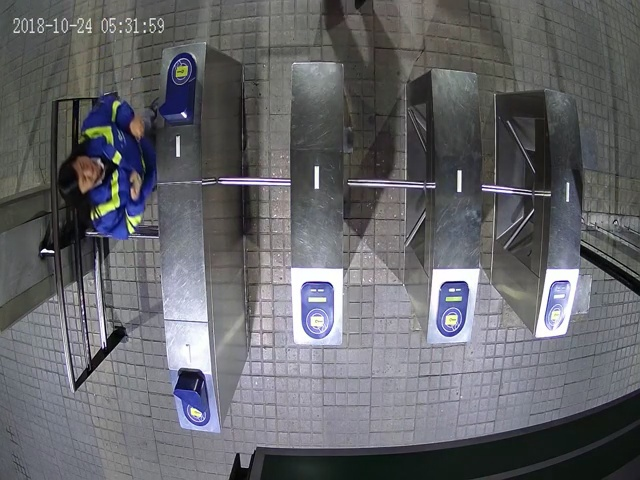Chaleco_azul: (59, 95, 161, 241)
